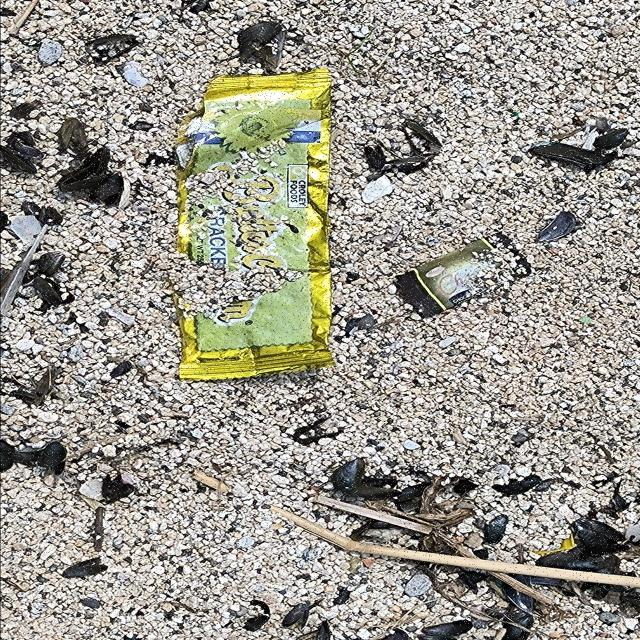plastic_waste: (174, 68, 339, 382), (395, 231, 533, 319)
